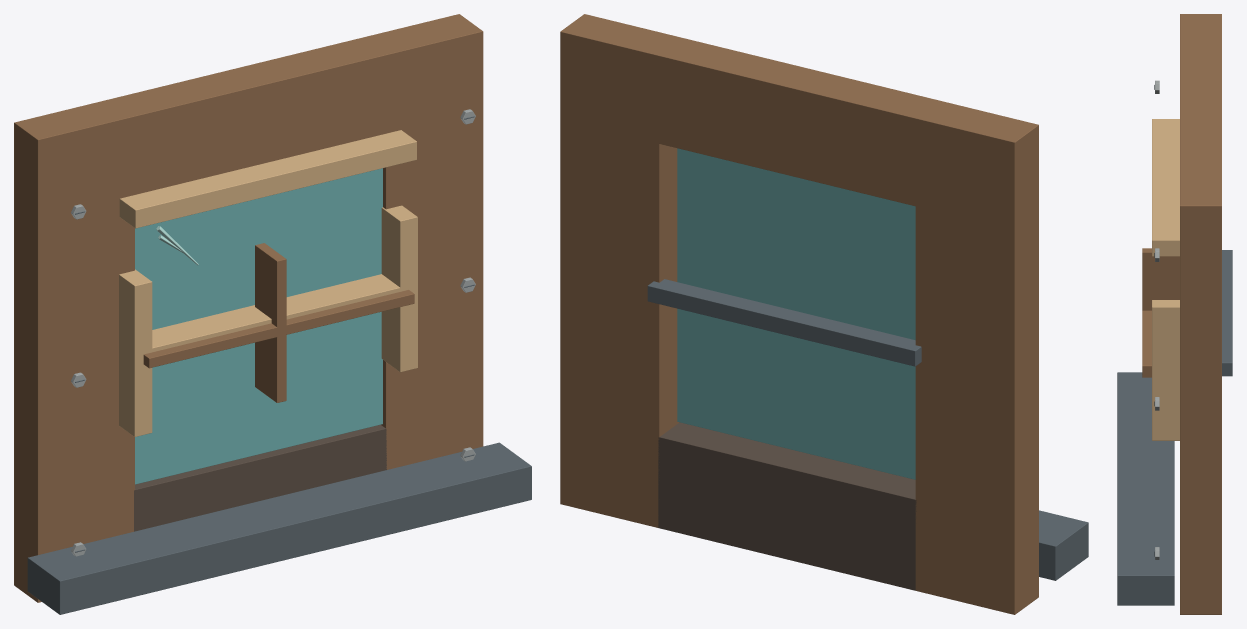
The model's file is 03_Wooden_Window_Wall.fbx.
3 renders of one model, left to right at view 1: azimuth 30°, elevation 25°; view 2: azimuth 150°, elevation 25°; view 3: azimuth 270°, elevation 25°, orthographic. The views are drawn at different scales.
Visible parts, largest first — view 1: 03_Wooden_Window_Wall; view 2: 03_Wooden_Window_Wall; view 3: 03_Wooden_Window_Wall.
Part boxes in pixels (x1=…): 03_Wooden_Window_Wall: x1=14, y1=14, x2=531, y2=614; 03_Wooden_Window_Wall: x1=560, y1=14, x2=1088, y2=614; 03_Wooden_Window_Wall: x1=1117, y1=14, x2=1232, y2=614.
Bounding box in the file's own units: 3.2 × 3 × 0.765.
